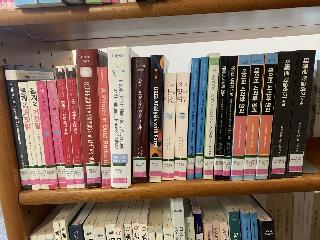book-spine: (284, 48, 315, 179), (267, 50, 297, 180), (4, 64, 32, 191), (76, 48, 101, 189), (108, 46, 132, 188), (255, 51, 278, 180), (242, 53, 264, 181), (231, 54, 251, 181), (18, 81, 41, 190), (36, 81, 58, 190), (56, 65, 75, 189), (66, 65, 85, 188), (27, 81, 48, 190), (131, 57, 149, 183), (203, 52, 220, 180), (47, 80, 67, 188), (149, 55, 164, 183), (222, 55, 237, 180), (173, 71, 190, 180), (194, 57, 209, 178), (214, 56, 228, 180), (161, 73, 177, 180), (186, 57, 200, 179), (98, 67, 111, 187)
